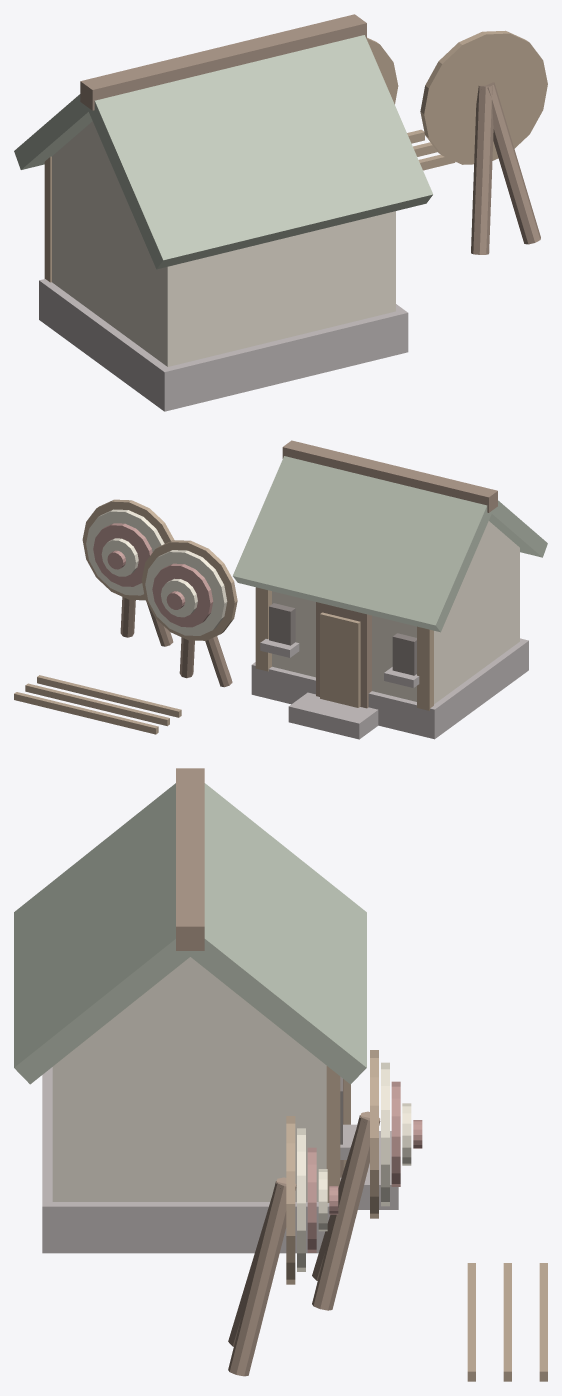
Rendered from bld_archery.glb.
3 renders of one model, top to bottom at view 1: azimuth 30°, elevation 25°; view 2: azimuth 150°, elevation 25°; view 3: azimuth 270°, elevation 25°, orthographic. The views are drawn at different scales.
Parts seen in each view (by area): view 1: bld_archery_84907A, bld_archery_DDCFB6, bld_archery_948989, bld_archery_917154, bld_archery_705443; view 2: bld_archery_84907A, bld_archery_917154, bld_archery_DDCFB6, bld_archery_948989, bld_archery_705443, bld_archery_E6D9BC, bld_archery_935C57, bld_archery_514744; view 3: bld_archery_84907A, bld_archery_DDCFB6, bld_archery_948989, bld_archery_705443, bld_archery_917154, bld_archery_E6D9BC, bld_archery_935C57.
Boxes of the visible parts, x1=… form: bld_archery_84907A: x1=14, y1=35, x2=433, y2=269; bld_archery_DDCFB6: x1=52, y1=121, x2=395, y2=366; bld_archery_948989: x1=39, y1=279, x2=408, y2=411; bld_archery_917154: x1=44, y1=30, x2=547, y2=282; bld_archery_705443: x1=80, y1=14, x2=540, y2=254; bld_archery_84907A: x1=233, y1=456, x2=547, y2=632; bld_archery_917154: x1=14, y1=499, x2=433, y2=734; bld_archery_DDCFB6: x1=272, y1=521, x2=519, y2=704; bld_archery_948989: x1=251, y1=638, x2=528, y2=739; bld_archery_705443: x1=120, y1=440, x2=497, y2=708; bld_archery_E6D9BC: x1=86, y1=509, x2=227, y2=635; bld_archery_935C57: x1=93, y1=523, x2=213, y2=627; bld_archery_514744: x1=269, y1=603, x2=416, y2=675; bld_archery_84907A: x1=14, y1=783, x2=366, y2=1084; bld_archery_DDCFB6: x1=52, y1=957, x2=326, y2=1201; bld_archery_948989: x1=42, y1=1067, x2=398, y2=1253; bld_archery_705443: x1=176, y1=768, x2=380, y2=1376; bld_archery_917154: x1=286, y1=1050, x2=547, y2=1381; bld_archery_E6D9BC: x1=297, y1=1062, x2=411, y2=1271; bld_archery_935C57: x1=307, y1=1081, x2=422, y2=1252.
Bounding box in the file's own units: 1.14 × 0.6233 × 0.8915.
